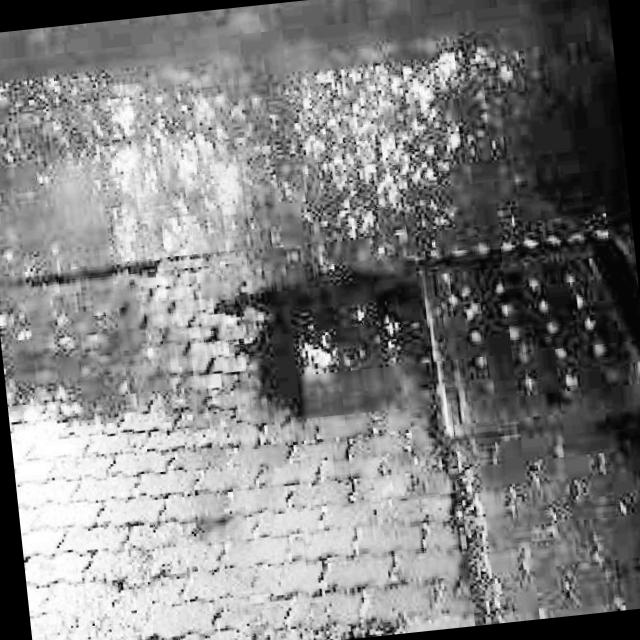Pothole: (205, 218, 640, 477)
